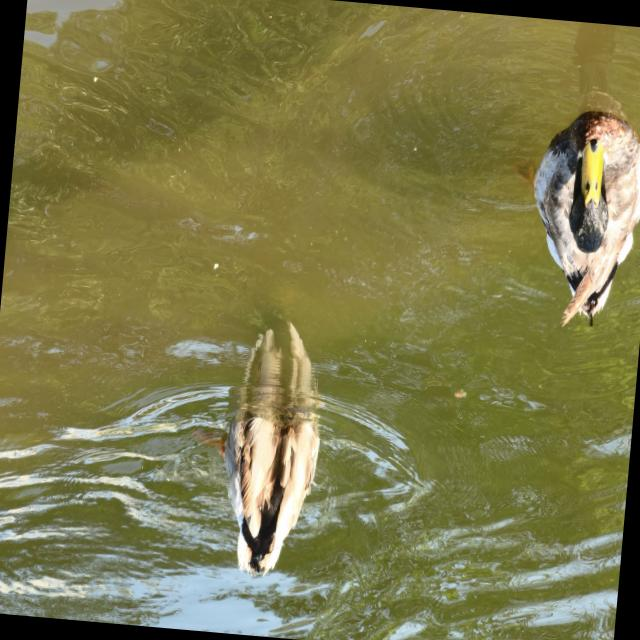duck: (520, 102, 640, 334), (196, 392, 323, 578)
